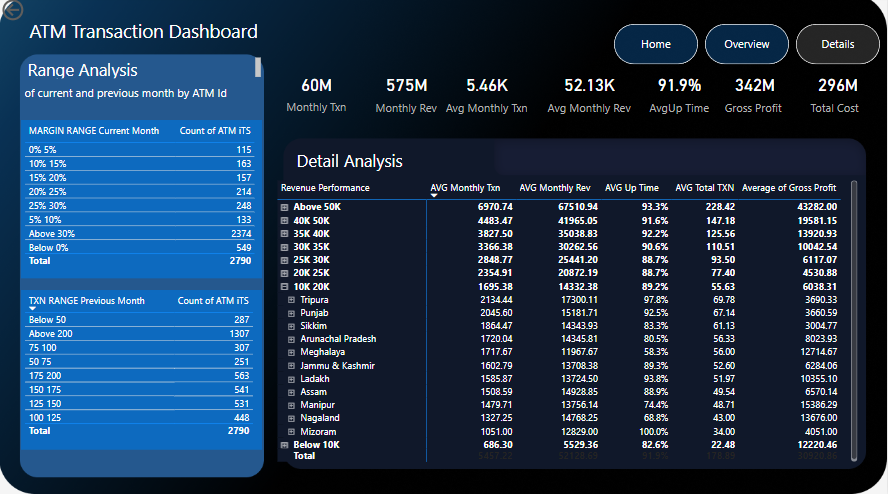

Layout of this report page (visuals, bound fields, positions):
{"tool":"powerbi","page":{"name":"Details","canvas":[1280,720],"ordinal":2},"visuals":[{"type":"tableEx","fields":{"Values":["Dataset.MARGIN RANGE Current Month","Dataset.ATM iTS"]},"box":[31.7,178.3,346.7,228.3],"z":0},{"type":"tableEx","fields":{"Values":["Dataset.TXN RANGE Previous Month","Dataset.ATM iTS"]},"box":[31.7,423.3,346.7,230],"z":1000},{"type":"textbox","box":[35.7,82.9,345.7,40],"z":2000},{"type":"textbox","box":[31.7,123.3,346.7,40],"z":3000},{"type":"pivotTable","fields":{"Rows":["Dataset.Revenue Performance","Dataset.STATE","Dataset.ATM iTS"],"Values":["Avg(Dataset.Monthly Txn)","Avg(Dataset.Monthly Rev)","Avg(Dataset.Up Time)","Avg(Dataset.AVG Total TXN)","Avg(Dataset. Gross Profit )"]},"box":[396.2,261.2,845,415],"z":4000},{"type":"actionButton","box":[0,0,100,40],"z":5000},{"type":"card","fields":{"Values":["Sum(Dataset.Monthly Txn)"]},"box":[396.7,86.7,121.7,103.3],"z":6000},{"type":"card","fields":{"Values":["Sum(Dataset.Monthly Rev)"]},"box":[534,86.4,104.3,104.3],"z":7000},{"type":"card","fields":{"Values":["Avg(Dataset.Monthly Txn)"]},"box":[638.3,86.4,128.6,104.3],"z":8000},{"type":"card","fields":{"Values":["Avg(Dataset.Monthly Rev)"]},"box":[782.6,86.4,135.7,104.3],"z":9000},{"type":"card","fields":{"Values":["Avg(Dataset.Up Time)"]},"box":[918.3,86.4,121.4,104.3],"z":10000},{"type":"card","fields":{"Values":["Sum(Dataset. Total Cost  )"]},"box":[1148.3,86.4,120,104.3],"z":11000},{"type":"card","fields":{"Values":["Sum(Dataset. Gross Profit )"]},"box":[1028.3,86.4,120,104.3],"z":12000},{"type":"pageNavigator","box":[885,40,383.3,58.3],"z":13000},{"type":"textbox","box":[1.7,25.8,413.3,65.8],"z":14000},{"type":"textbox","box":[423.3,215,196.7,46.7],"z":15000}]}

Visuals, with their boxes in screenshot pixels (x1, y1, x2, y2), scaled from the page's 1280x720 canvas onto the 888x494 screenshot:
tableEx - Dataset.MARGIN RANGE Current Month x Dataset.ATM iTS: x1=22, y1=122, x2=263, y2=279
tableEx - Dataset.TXN RANGE Previous Month x Dataset.ATM iTS: x1=22, y1=290, x2=263, y2=448
textbox: x1=25, y1=57, x2=265, y2=84
textbox: x1=22, y1=85, x2=263, y2=112
pivotTable - Dataset.Revenue Performance x Dataset.STATE: x1=275, y1=179, x2=861, y2=464
actionButton: x1=0, y1=0, x2=69, y2=27
card - Sum(Dataset.Monthly Txn): x1=275, y1=59, x2=360, y2=130
card - Sum(Dataset.Monthly Rev): x1=370, y1=59, x2=443, y2=131
card - Avg(Dataset.Monthly Txn): x1=443, y1=59, x2=532, y2=131
card - Avg(Dataset.Monthly Rev): x1=543, y1=59, x2=637, y2=131
card - Avg(Dataset.Up Time): x1=637, y1=59, x2=721, y2=131
card - Sum(Dataset. Total Cost  ): x1=797, y1=59, x2=880, y2=131
card - Sum(Dataset. Gross Profit ): x1=713, y1=59, x2=797, y2=131
pageNavigator: x1=614, y1=27, x2=880, y2=67
textbox: x1=1, y1=18, x2=288, y2=63
textbox: x1=294, y1=148, x2=430, y2=180
